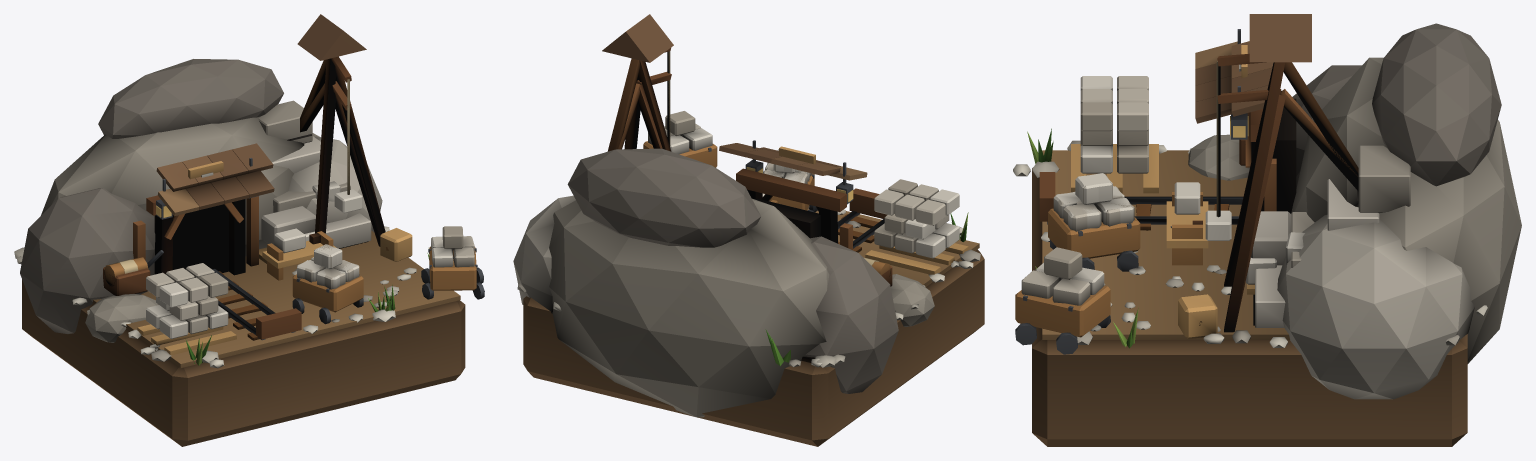
File: stonemine.glb
3 renders of one model, left to right at view 1: azimuth 30°, elevation 25°; view 2: azimuth 150°, elevation 25°; view 3: azimuth 270°, elevation 25°, orthographic. The views are drawn at different scales.
Visible parts, largest first — view 1: stonemine_l1, stonemine_l3, stonemine_l2; view 2: stonemine_l1, stonemine_l3, stonemine_l2; view 3: stonemine_l1, stonemine_l3, stonemine_l2.
Part boxes in pixels (x1,y1,x2,y2): stonemine_l1: (16, 59, 465, 446); stonemine_l3: (14, 14, 484, 368); stonemine_l2: (72, 81, 429, 361); stonemine_l1: (513, 140, 984, 446); stonemine_l3: (517, 14, 968, 367); stonemine_l2: (618, 72, 980, 320); stonemine_l1: (1032, 23, 1521, 446); stonemine_l3: (1013, 14, 1487, 354); stonemine_l2: (1056, 29, 1358, 348).
Bounding box in the file's own units: 1.03 × 0.905 × 0.9815.
